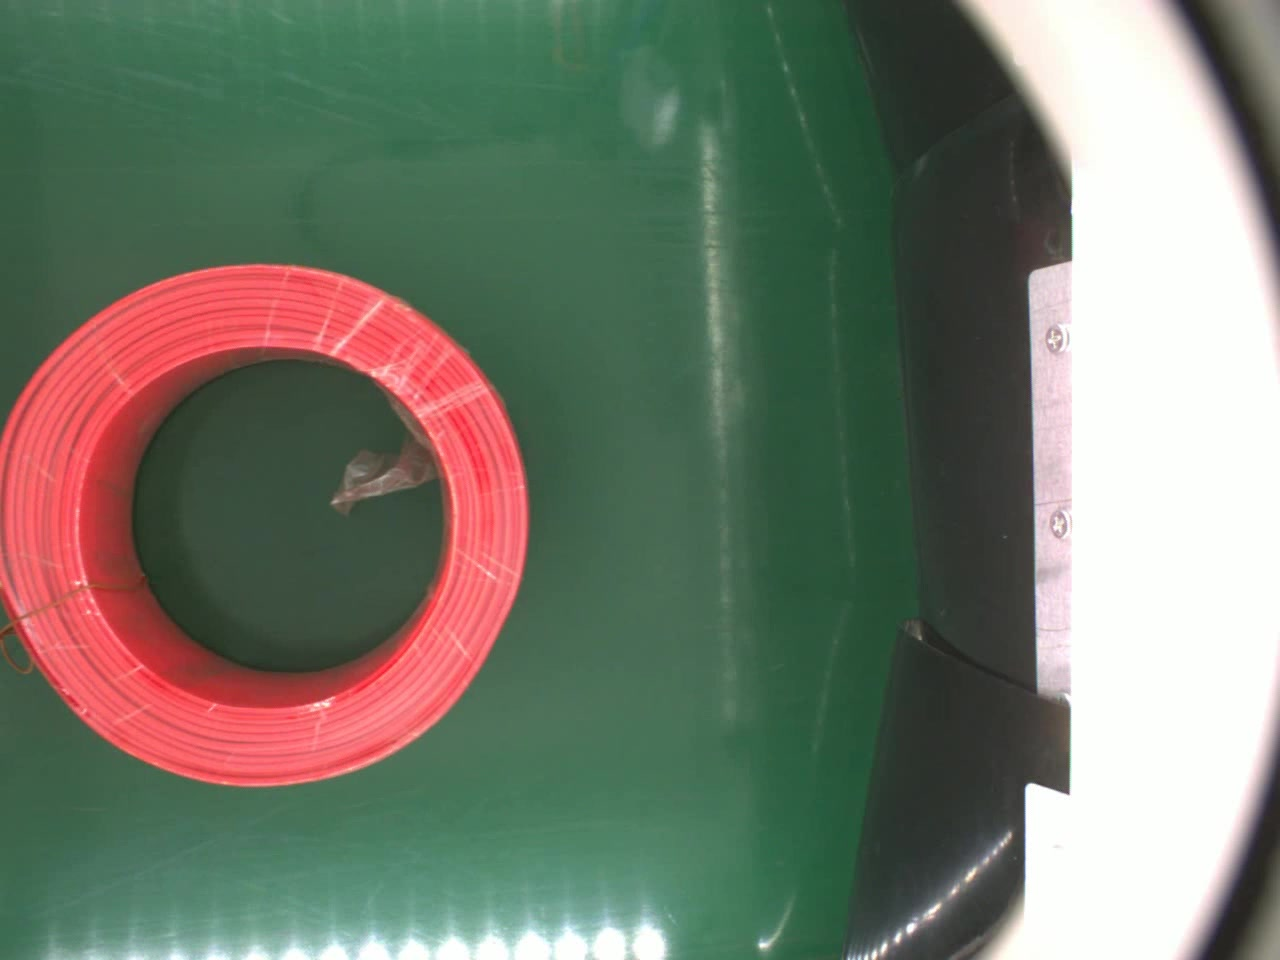red: (0, 257, 539, 788)
